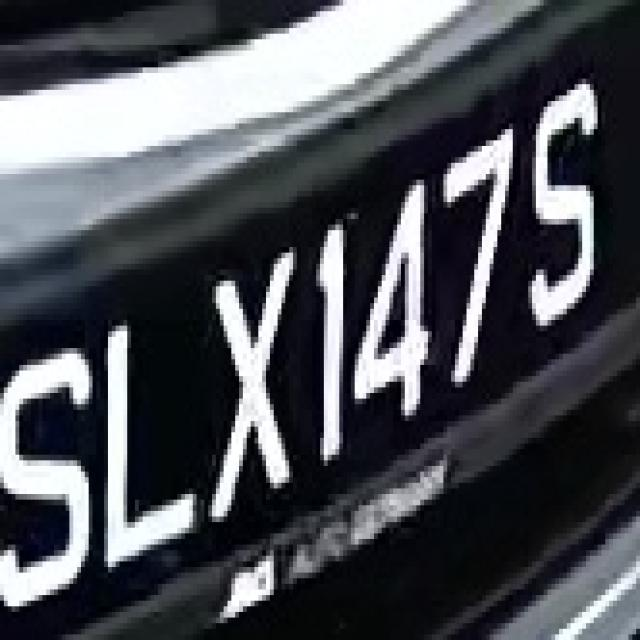1: (304, 191, 358, 494)
4: (351, 168, 443, 444)
7: (424, 135, 536, 404)
L: (93, 303, 208, 578)
S: (4, 331, 96, 601), (528, 79, 602, 342)
X: (208, 236, 297, 550)
